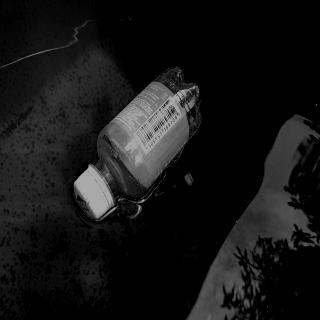bottle: (72, 65, 202, 222)
